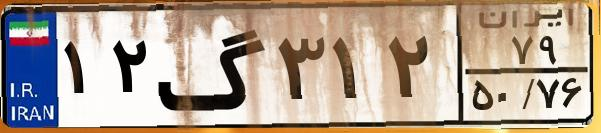0: (495, 70, 520, 125)
1: (330, 28, 385, 110), (57, 26, 110, 100)
2: (385, 28, 445, 110), (110, 28, 156, 98)
3: (270, 28, 330, 110)
5: (470, 70, 495, 125)
6: (560, 70, 590, 125)
7: (508, 27, 537, 80), (535, 70, 560, 125)
9: (537, 27, 568, 80)
گ: (156, 12, 270, 120)
